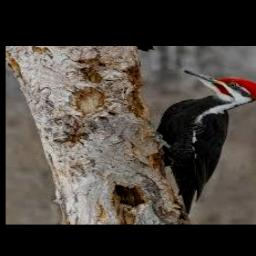Woodpecker: (155, 69, 256, 216)
